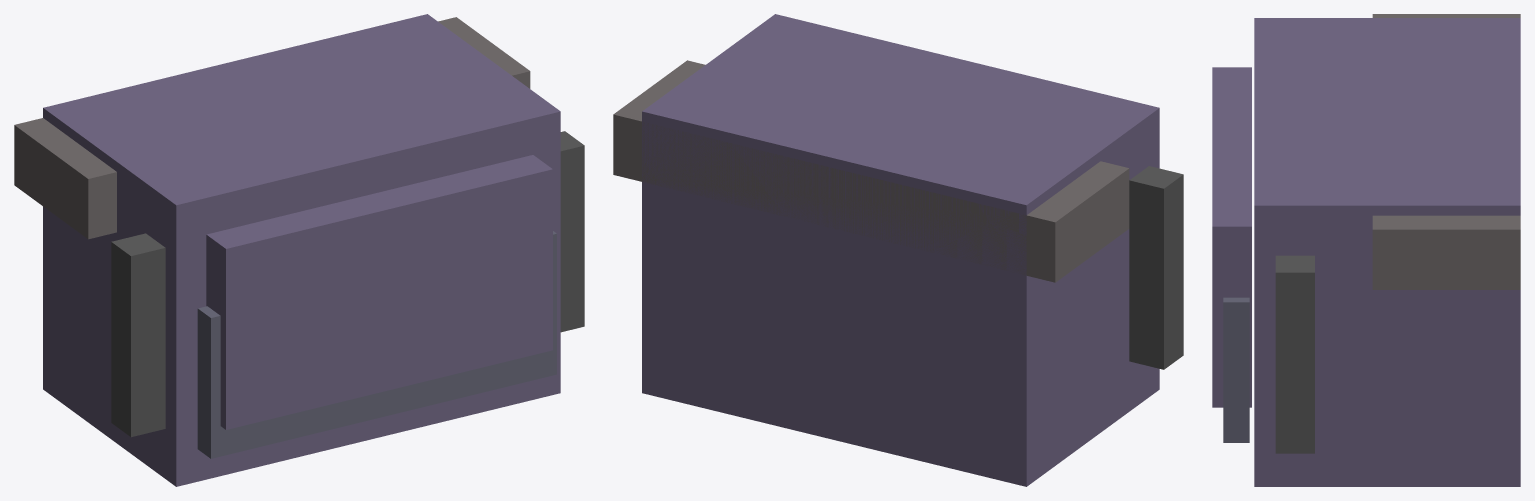
The model's file is body_002.glb.
3 views of the same model, side by side, from view 1: azimuth 30°, elevation 25°; view 2: azimuth 150°, elevation 25°; view 3: azimuth 270°, elevation 25° (orthographic).
Visible parts, largest first — view 1: geometry_0, geometry_1, geometry_5, geometry_3, geometry_2, geometry_4; view 2: geometry_0, geometry_2, geometry_3; view 3: geometry_0, geometry_2, geometry_1, geometry_4, geometry_5.
Part boxes in pixels (x1,y1,x2,y2): geometry_0: (43,14,560,486); geometry_1: (206,155,552,429); geometry_5: (197,231,556,458); geometry_3: (111,233,165,437); geometry_2: (14,17,530,239); geometry_4: (560,131,584,332); geometry_0: (642,14,1159,486); geometry_2: (613,60,1129,282); geometry_3: (1129,166,1183,369); geometry_0: (1254,18,1520,486); geometry_2: (1372,14,1520,289); geometry_1: (1212,67,1251,407); geometry_4: (1275,255,1314,453); geometry_5: (1223,297,1249,442).
Size of the model in its own units: 1.59 by 0.945 by 0.9375.
